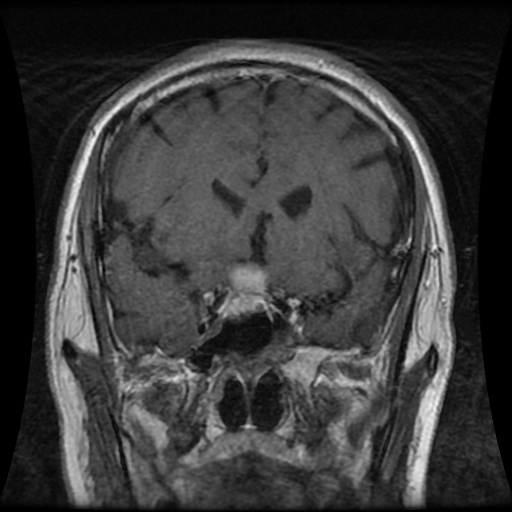pituitary: (229, 261, 267, 314)
